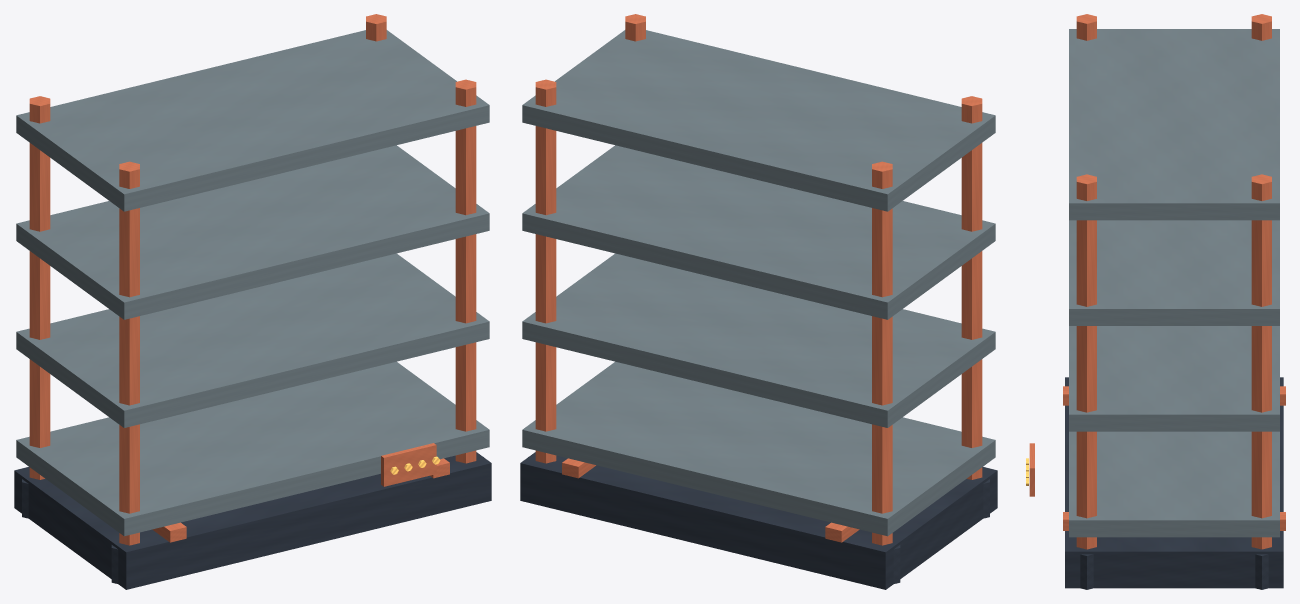
File: atlas100-s026-a06.glb
3 renders of one model, left to right at view 1: azimuth 30°, elevation 25°; view 2: azimuth 150°, elevation 25°; view 3: azimuth 270°, elevation 25°, orthographic. The views are drawn at different scales.
Visible parts, largest first — view 1: atlas100-s026-a06:part-014, atlas100-s026-a06:part-012, atlas100-s026-a06:part-013, atlas100-s026-a06:part-011, atlas100-s026-a06:part-000, atlas100-s026-a06:part-009, atlas100-s026-a06:part-005, atlas100-s026-a06:part-003, atlas100-s026-a06:part-015; view 2: atlas100-s026-a06:part-014, atlas100-s026-a06:part-012, atlas100-s026-a06:part-013, atlas100-s026-a06:part-011, atlas100-s026-a06:part-000, atlas100-s026-a06:part-007, atlas100-s026-a06:part-003, atlas100-s026-a06:part-005; view 3: atlas100-s026-a06:part-014, atlas100-s026-a06:part-011, atlas100-s026-a06:part-012, atlas100-s026-a06:part-013, atlas100-s026-a06:part-000, atlas100-s026-a06:part-007, atlas100-s026-a06:part-009, atlas100-s026-a06:part-003, atlas100-s026-a06:part-005, atlas100-s026-a06:part-008, atlas100-s026-a06:part-010.
Boxes of the visible parts, x1=… form: atlas100-s026-a06:part-014: x1=16, y1=30, x2=489, y2=211; atlas100-s026-a06:part-012: x1=16, y1=253, x2=489, y2=427; atlas100-s026-a06:part-013: x1=16, y1=145, x2=489, y2=319; atlas100-s026-a06:part-011: x1=16, y1=361, x2=489, y2=536; atlas100-s026-a06:part-000: x1=14, y1=452, x2=491, y2=589; atlas100-s026-a06:part-009: x1=455, y1=79, x2=476, y2=463; atlas100-s026-a06:part-005: x1=119, y1=161, x2=139, y2=545; atlas100-s026-a06:part-003: x1=29, y1=96, x2=50, y2=479; atlas100-s026-a06:part-015: x1=381, y1=443, x2=436, y2=486; atlas100-s026-a06:part-014: x1=522, y1=30, x2=995, y2=211; atlas100-s026-a06:part-012: x1=522, y1=253, x2=995, y2=427; atlas100-s026-a06:part-013: x1=522, y1=145, x2=995, y2=319; atlas100-s026-a06:part-011: x1=522, y1=361, x2=995, y2=536; atlas100-s026-a06:part-000: x1=520, y1=452, x2=997, y2=589; atlas100-s026-a06:part-007: x1=535, y1=79, x2=556, y2=463; atlas100-s026-a06:part-003: x1=872, y1=161, x2=892, y2=545; atlas100-s026-a06:part-005: x1=961, y1=96, x2=982, y2=479; atlas100-s026-a06:part-014: x1=1069, y1=29, x2=1279, y2=220; atlas100-s026-a06:part-011: x1=1069, y1=431, x2=1279, y2=537; atlas100-s026-a06:part-012: x1=1069, y1=326, x2=1279, y2=431; atlas100-s026-a06:part-013: x1=1069, y1=220, x2=1279, y2=325; atlas100-s026-a06:part-000: x1=1065, y1=377, x2=1283, y2=588; atlas100-s026-a06:part-007: x1=1251, y1=174, x2=1271, y2=549; atlas100-s026-a06:part-009: x1=1076, y1=174, x2=1096, y2=549; atlas100-s026-a06:part-003: x1=1251, y1=14, x2=1271, y2=40; atlas100-s026-a06:part-005: x1=1076, y1=14, x2=1096, y2=40; atlas100-s026-a06:part-008: x1=1255, y1=554, x2=1268, y2=589; atlas100-s026-a06:part-010: x1=1080, y1=554, x2=1093, y2=589.
Size of the model in its own units: 2.69 by 2.84 by 1.66.
Materials: 4 (4 with a texture image).
